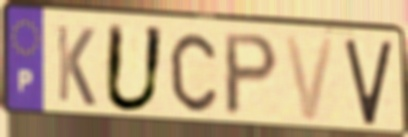C: (167, 30, 220, 115)
K: (54, 22, 98, 110)
P: (222, 31, 282, 119)
U: (101, 20, 168, 116)
V: (281, 33, 338, 123), (342, 37, 395, 128)
